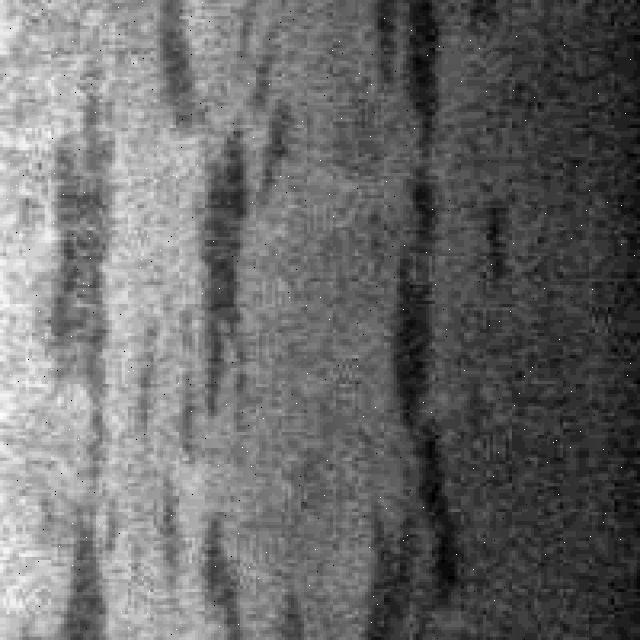Patches: (362, 3, 474, 611), (150, 12, 269, 452), (35, 63, 125, 614)
